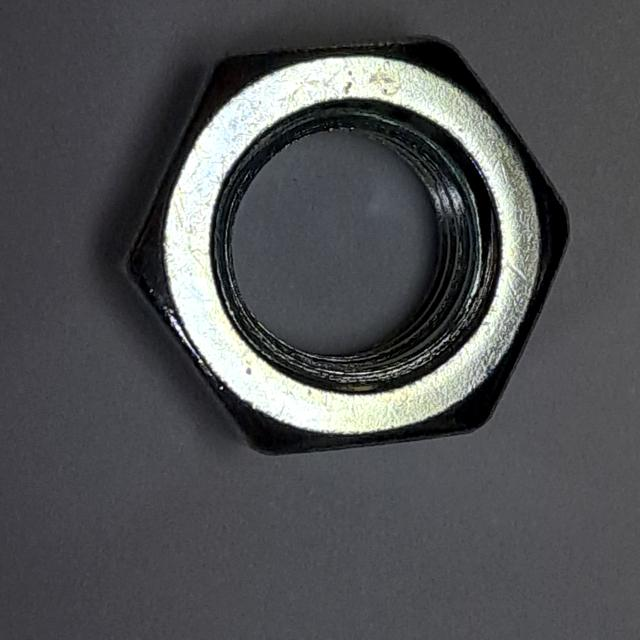Excellent: (98, 23, 587, 472)
